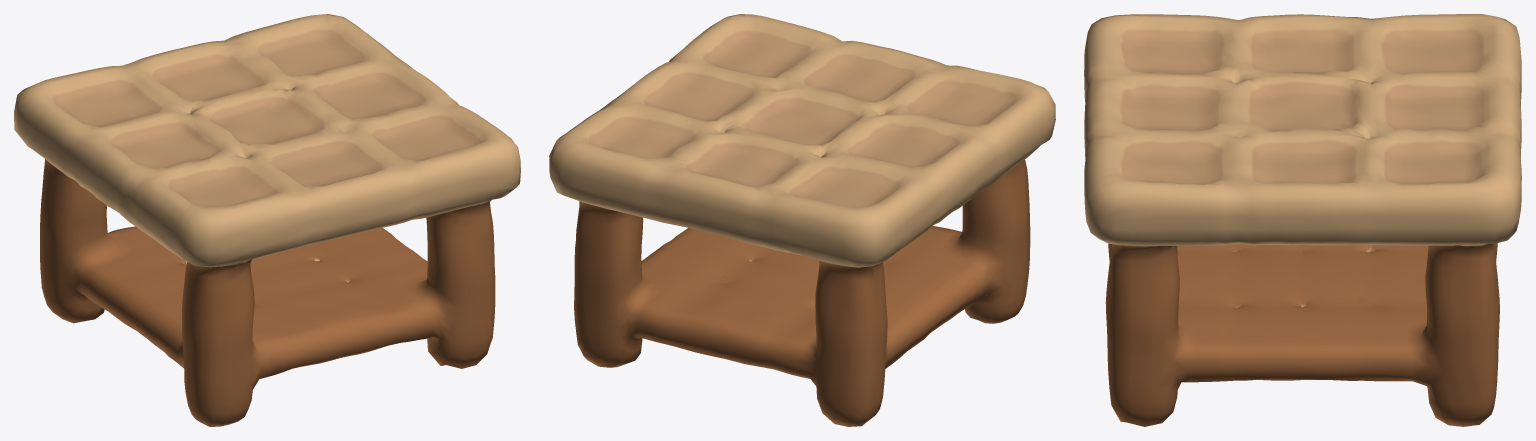
File: CRAFTINGTABLE.fbx
3 renders of one model, left to right at view 1: azimuth 30°, elevation 25°; view 2: azimuth 150°, elevation 25°; view 3: azimuth 270°, elevation 25°, orthographic. The views are drawn at different scales.
Visible parts, largest first — view 1: CRAFTINGTABLE_LOW; view 2: CRAFTINGTABLE_LOW; view 3: CRAFTINGTABLE_LOW.
Boxes of the visible parts, <box> form: CRAFTINGTABLE_LOW: <box>14,14,520,426</box>; CRAFTINGTABLE_LOW: <box>549,14,1055,426</box>; CRAFTINGTABLE_LOW: <box>1084,14,1521,426</box>.
Bounding box in the file's own units: 3.41 × 2.19 × 3.41.
Materials: 1 (1 with a texture image).
